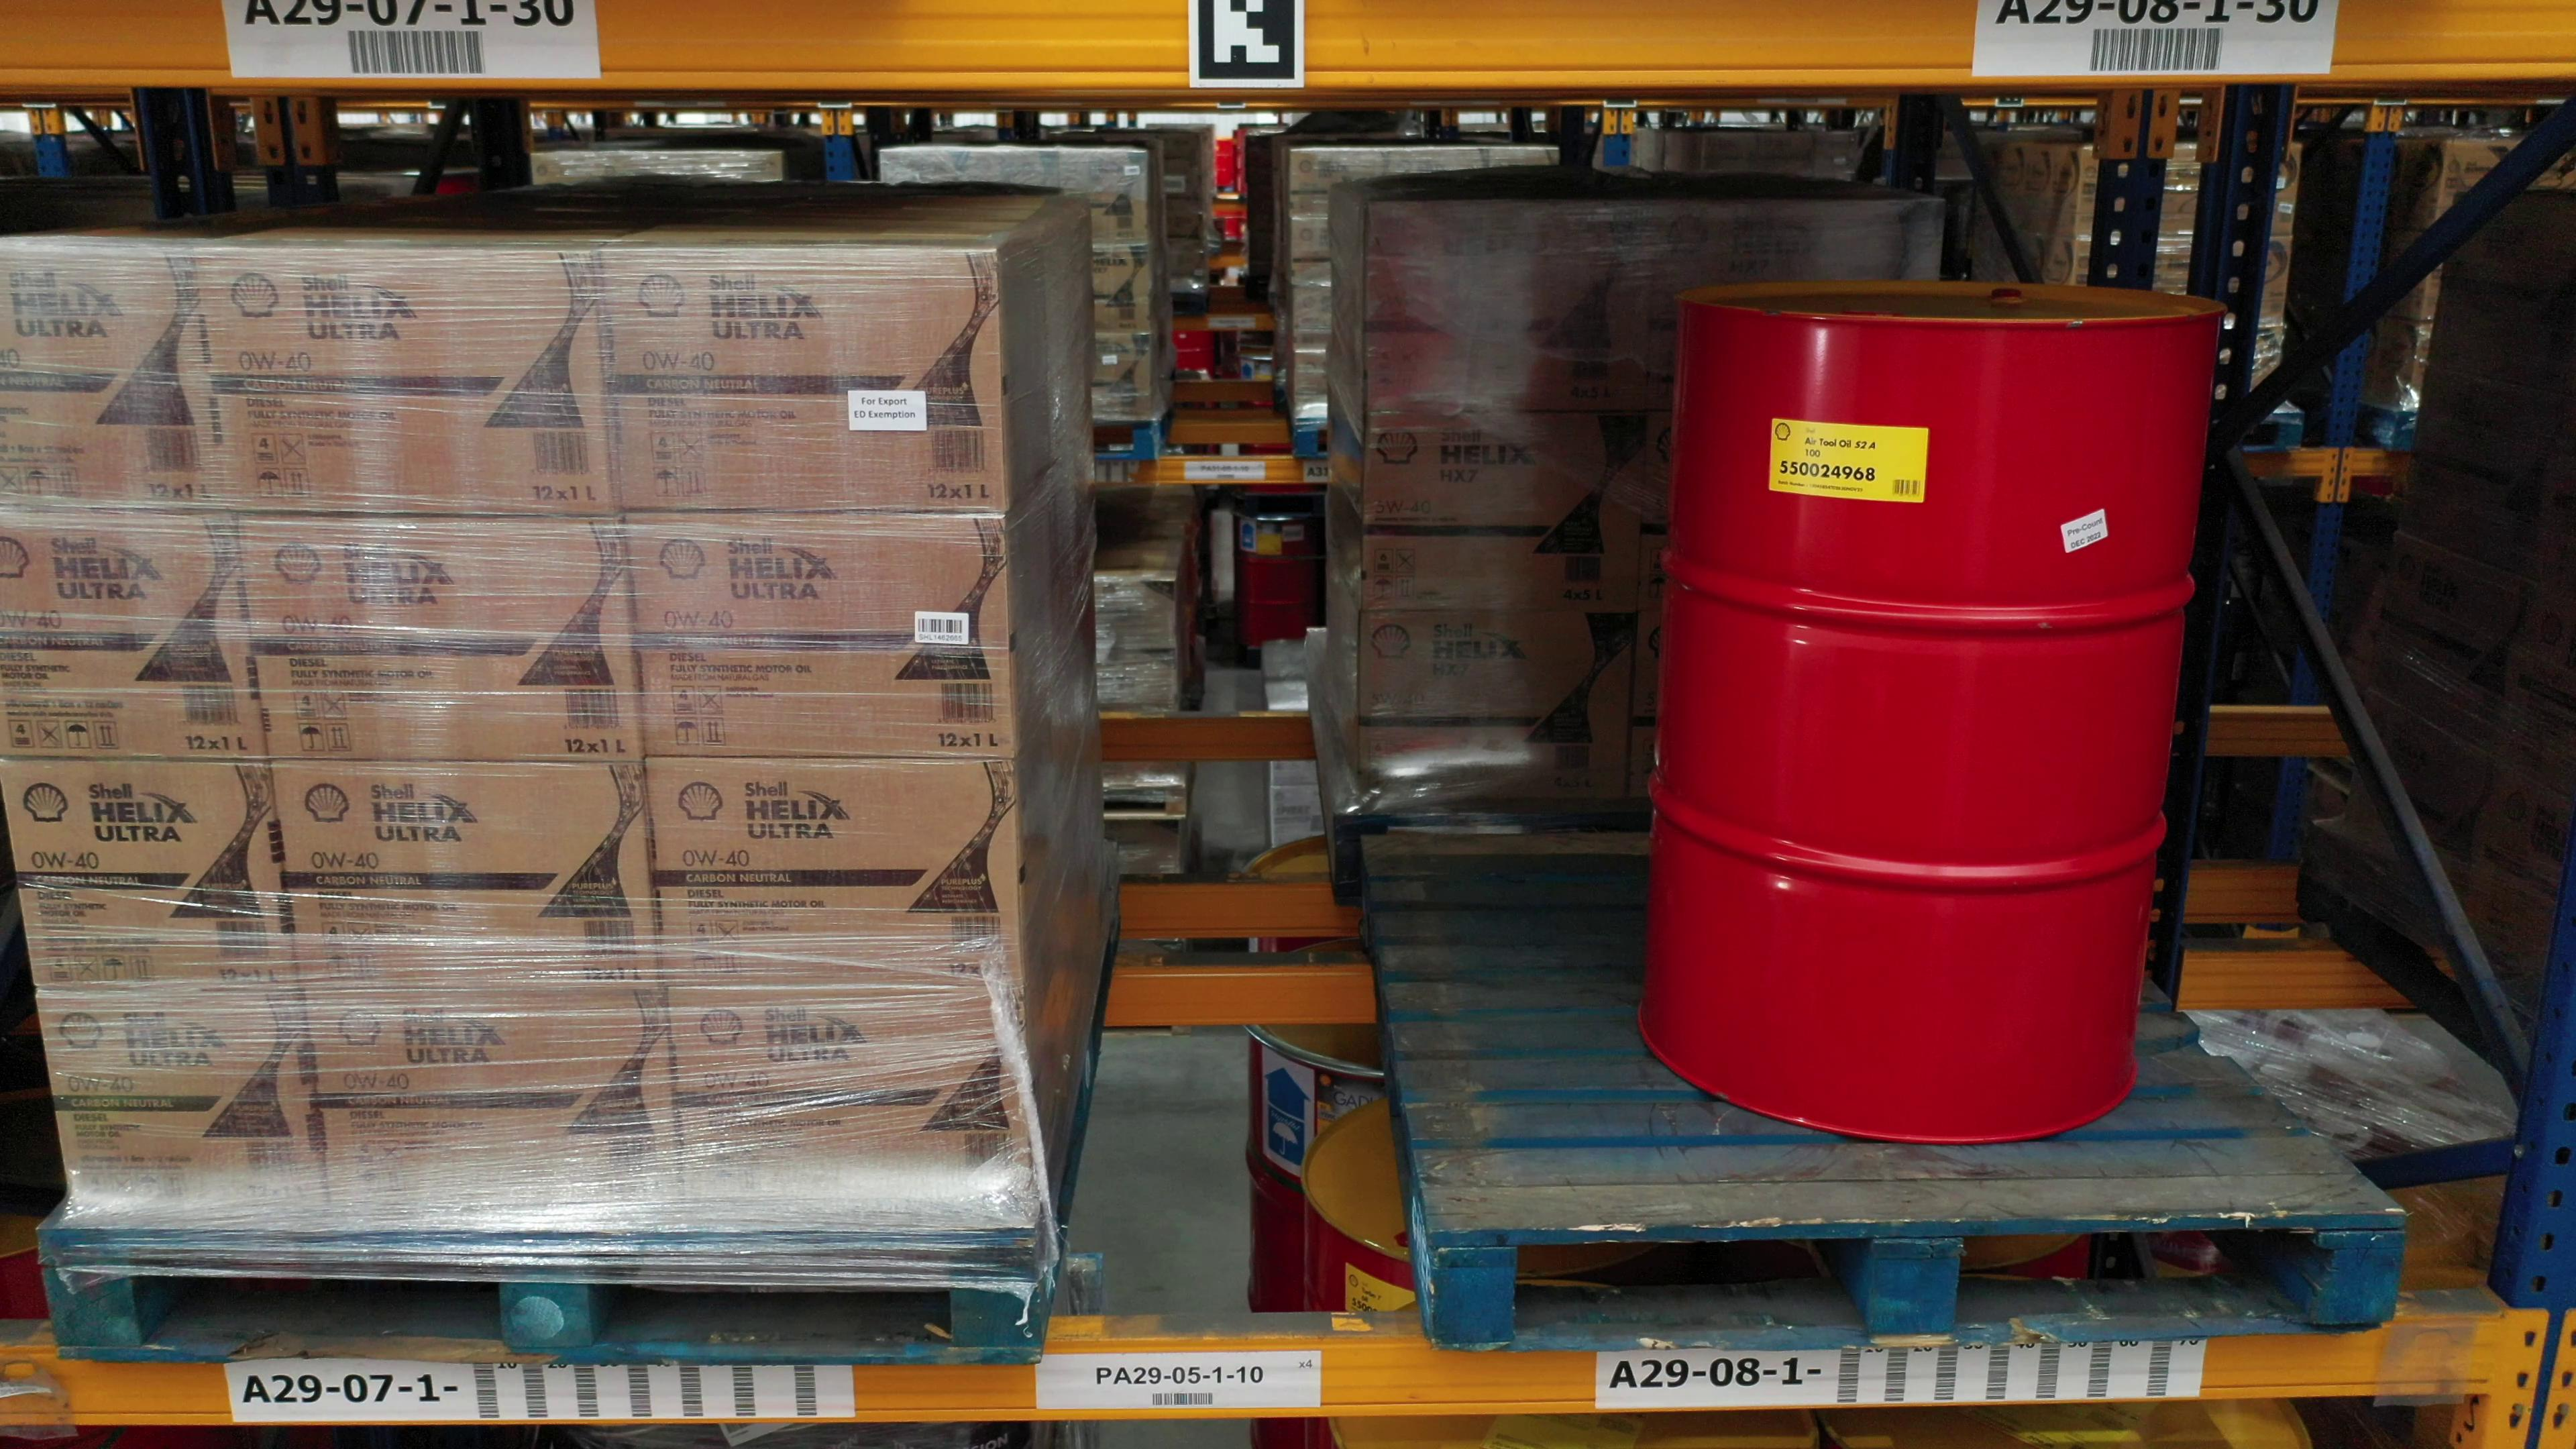-: (1642, 294, 2226, 1146), (196, 248, 619, 517), (602, 246, 1003, 517), (246, 511, 644, 764), (628, 510, 1014, 757), (272, 757, 662, 989), (644, 757, 1024, 989), (306, 989, 681, 1210), (667, 982, 1033, 1208), (0, 757, 303, 994), (0, 510, 269, 763), (37, 998, 331, 1217), (0, 248, 232, 511)
box: (1362, 198, 1654, 414), (1362, 414, 1647, 610), (1353, 610, 1635, 798)
